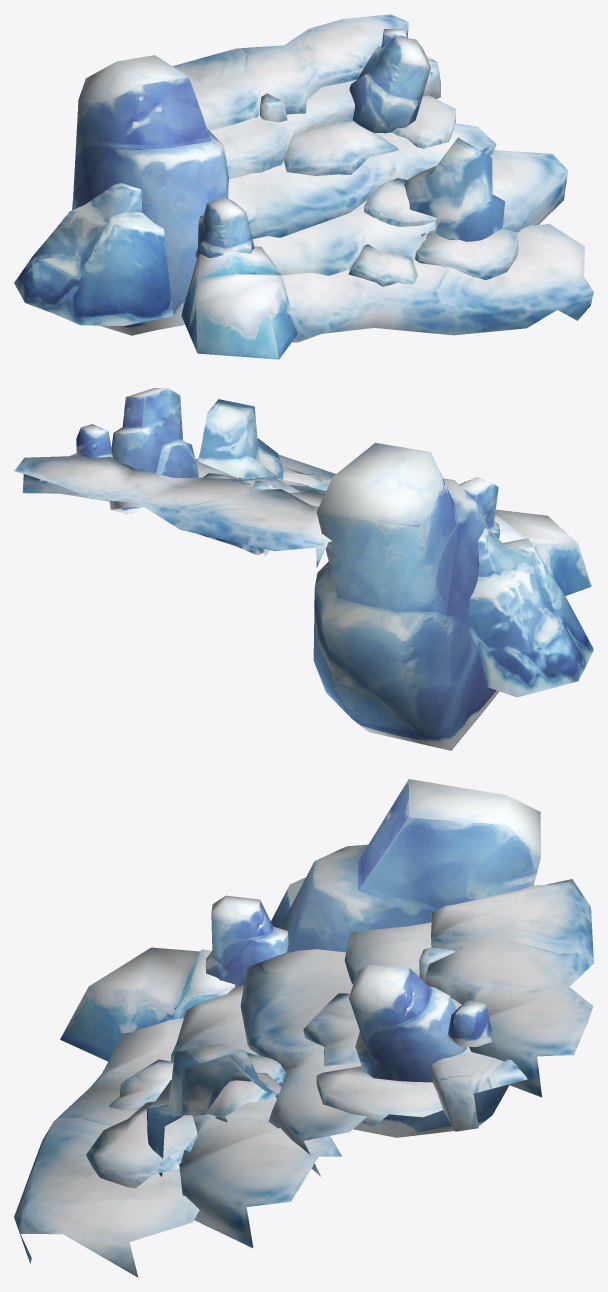
The model's file is SM_Stairs_04.fbx.
The picture shows the model from 3 angles, top to bottom: view 1: azimuth 30°, elevation 25°; view 2: azimuth 150°, elevation 25°; view 3: azimuth 270°, elevation 25°; orthographic projection. The views are drawn at different scales.
Visible parts, largest first — view 1: SM_Stairs_04; view 2: SM_Stairs_04; view 3: SM_Stairs_04.
Part boxes in pixels (x1,y1,x2,y2): SM_Stairs_04: (14, 14, 593, 359); SM_Stairs_04: (14, 388, 593, 750); SM_Stairs_04: (14, 779, 593, 1277).
Size of the model in its own units: 10.56 by 4.9 by 7.83.
